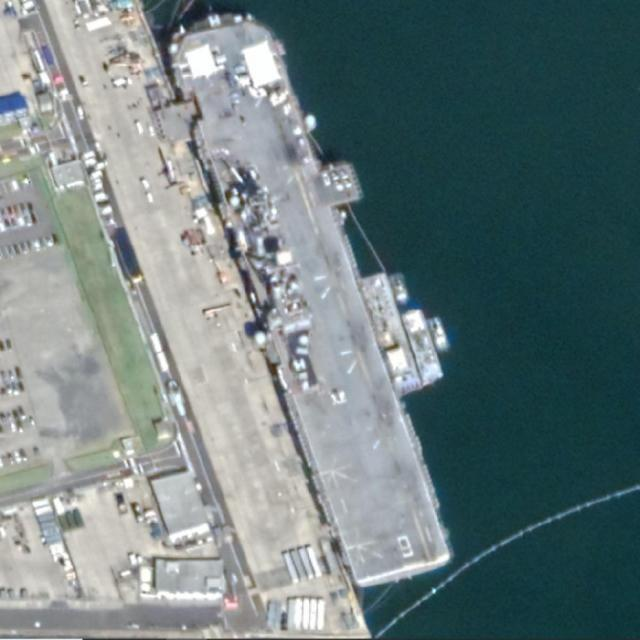Landing: (165, 3, 456, 599)
